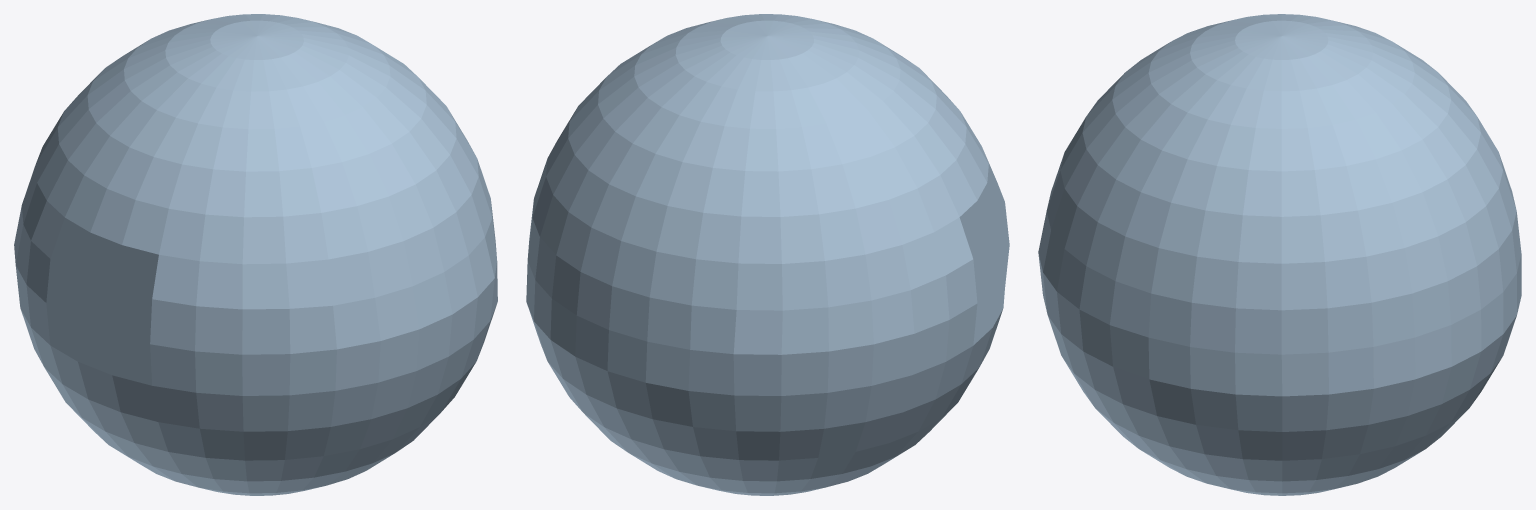
The model's file is Tower.fbx.
3 renders of one model, left to right at view 1: azimuth 30°, elevation 25°; view 2: azimuth 150°, elevation 25°; view 3: azimuth 270°, elevation 25°, orthographic.
Parts seen in each view (by area): view 1: Tower; view 2: Tower; view 3: Tower.
Part boxes in pixels (x1=…): Tower: x1=14, y1=14, x2=497, y2=495; Tower: x1=526, y1=14, x2=1009, y2=495; Tower: x1=1038, y1=14, x2=1521, y2=495.
Bounding box in the file's own units: 17.84 × 17.77 × 17.84.
